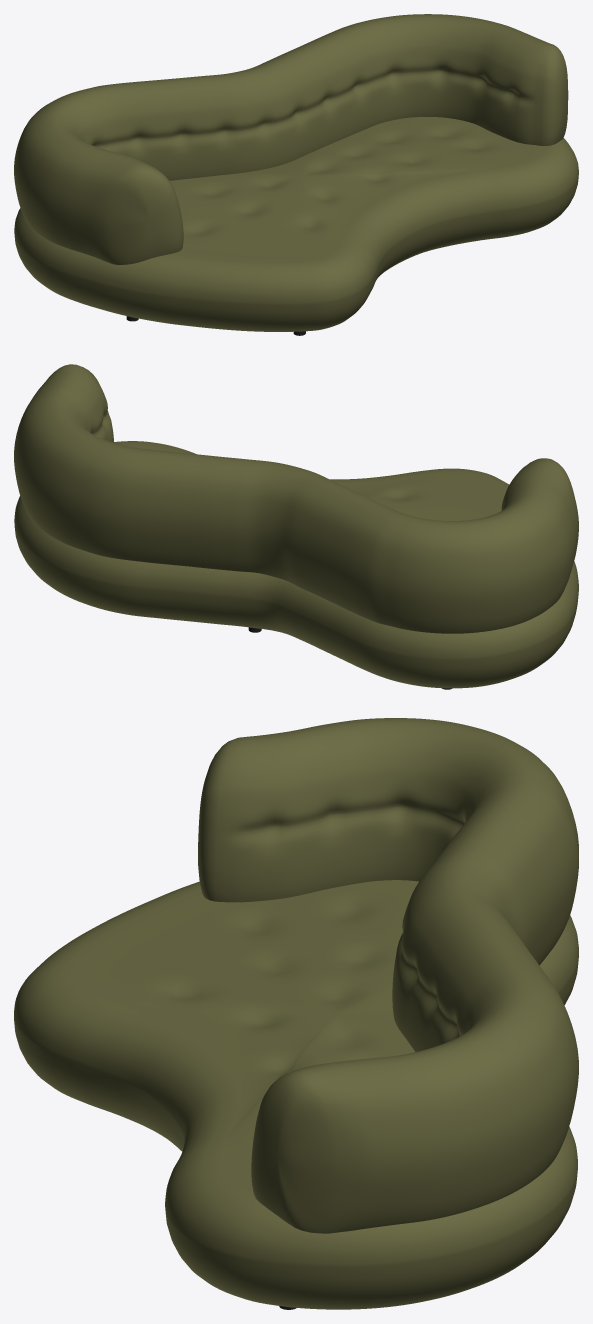
3 renders of one model, top to bottom at view 1: azimuth 30°, elevation 25°; view 2: azimuth 150°, elevation 25°; view 3: azimuth 270°, elevation 25°, orthographic. The views are drawn at different scales.
Parts seen in each view (by area): view 1: upholstery; view 2: upholstery; view 3: upholstery.
Part boxes in pixels (left/top/right/bottom): upholstery: left=14, top=14, right=578, bottom=331; upholstery: left=14, top=364, right=578, bottom=688; upholstery: left=14, top=718, right=578, bottom=1309.
Size of the model in its own units: 2.4 by 0.75 by 1.46.
